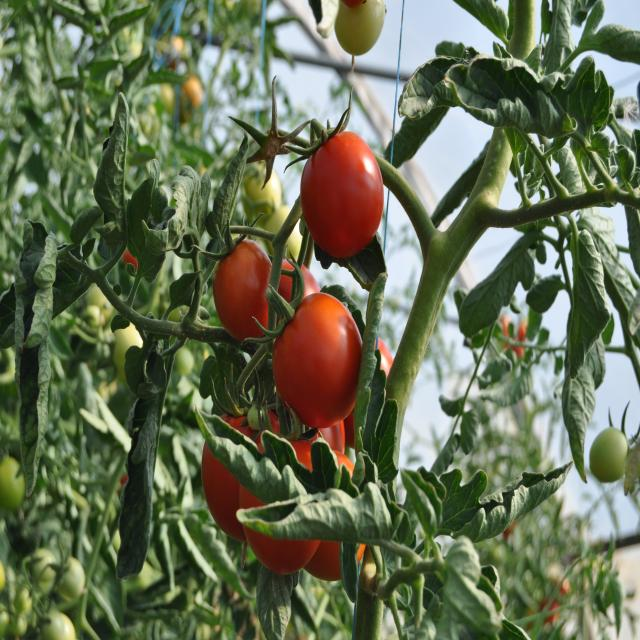Tomato: (296, 114, 396, 260)
